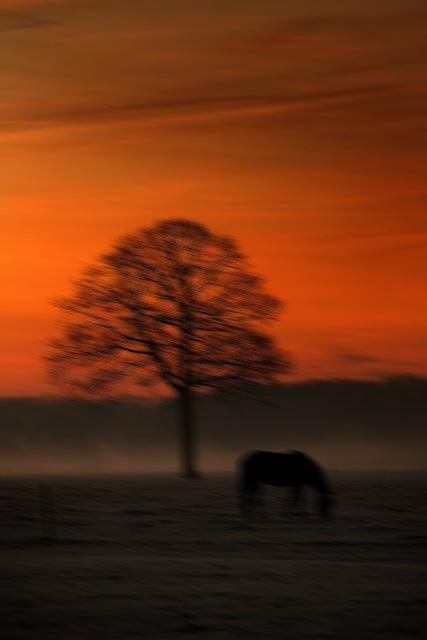horse: (236, 448, 334, 519)
